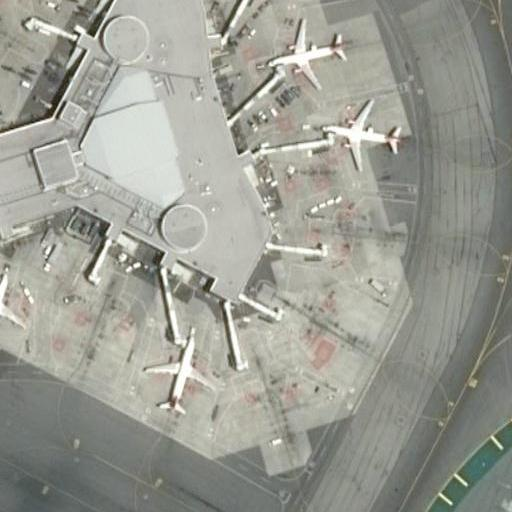Aircraft: (315, 98, 405, 179), (139, 337, 215, 420), (264, 16, 348, 89), (0, 272, 24, 353)
